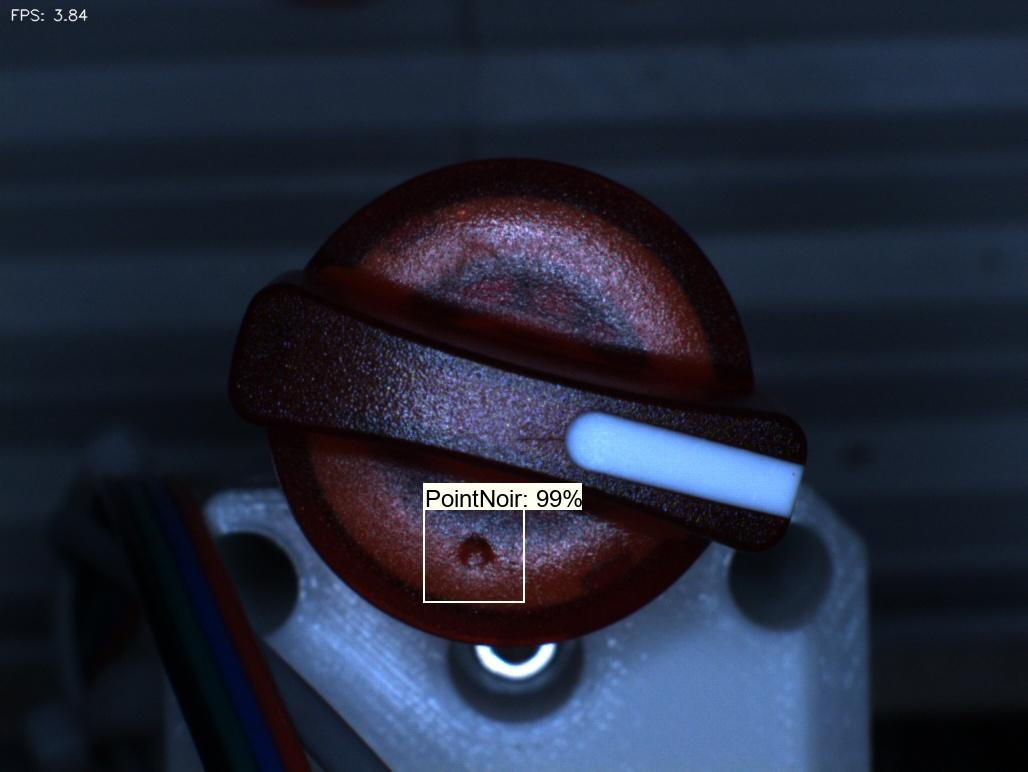Choc: (430, 512, 517, 597)
